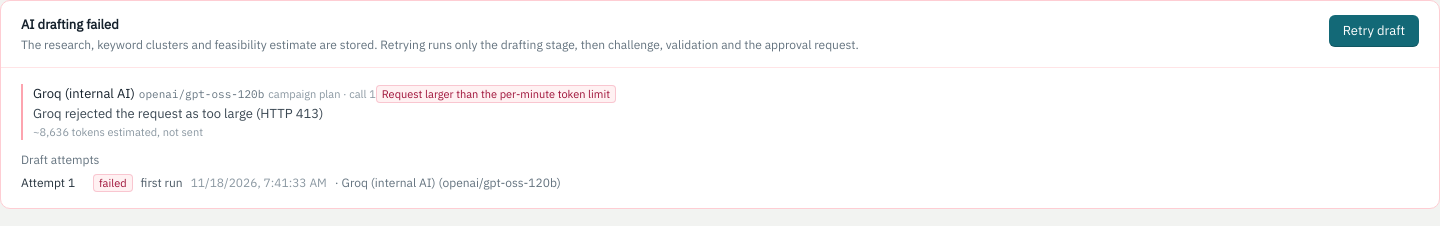
Test: DraftFailure › names each provider's error and retries once per click
Later steps or results of the test are not shown.
Expected: the text "Groq (internal AI)" is shown, left=33, top=85, right=135, bottom=102
Expected: the text "Groq rejected the request as too large (HTTP 413)" is shown, left=33, top=105, right=323, bottom=122
Click the button "Retry draft" at x=1374, y=31, box left=1329, top=15, right=1419, bottom=47
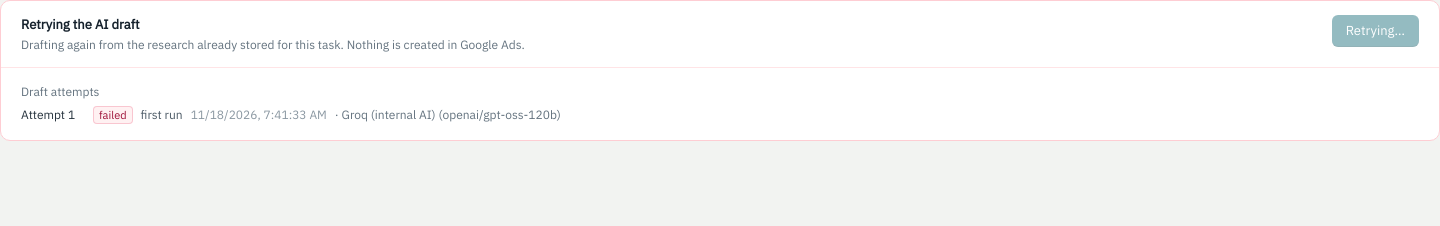
Now the button "Retrying…" is disabled, box left=1332, top=15, right=1419, bottom=47
